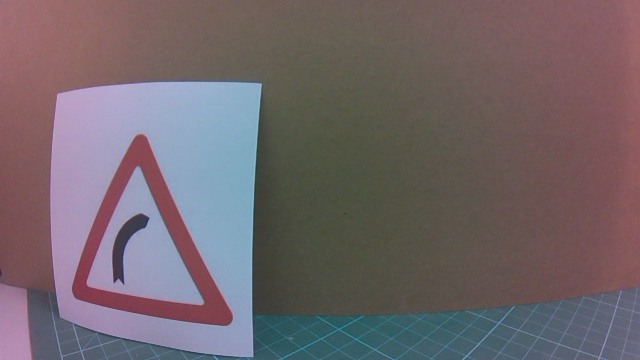right: (72, 135, 250, 311)
